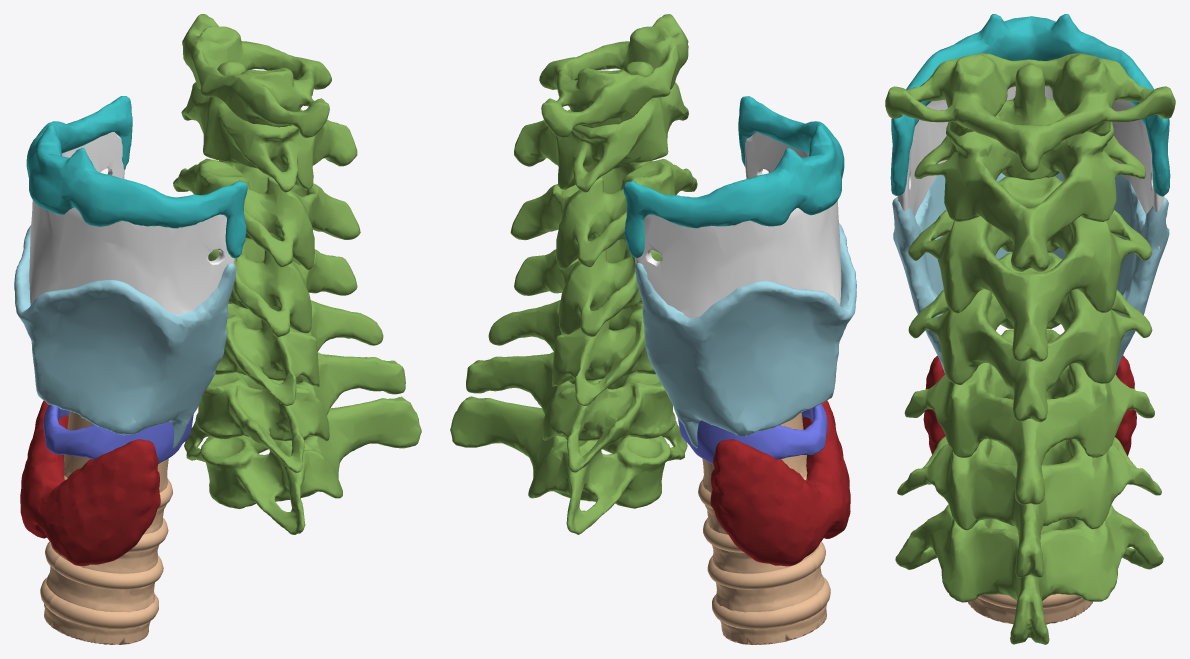
File: thyroid.glb
3 views of the same model, side by side, from view 1: azimuth 30°, elevation 25°; view 2: azimuth 150°, elevation 25°; view 3: azimuth 270°, elevation 25° (orthographic). The views are drawn at different scales.
Visible parts, largest first — view 1: udambu; view 2: udambu; view 3: udambu.
Boxes of the visible parts, x1=… form: udambu: x1=14, y1=14, x2=421, y2=644; udambu: x1=450, y1=14, x2=856, y2=644; udambu: x1=885, y1=14, x2=1175, y2=644.
Size of the model in its own units: 0.4549 by 0.6 by 0.2544.
